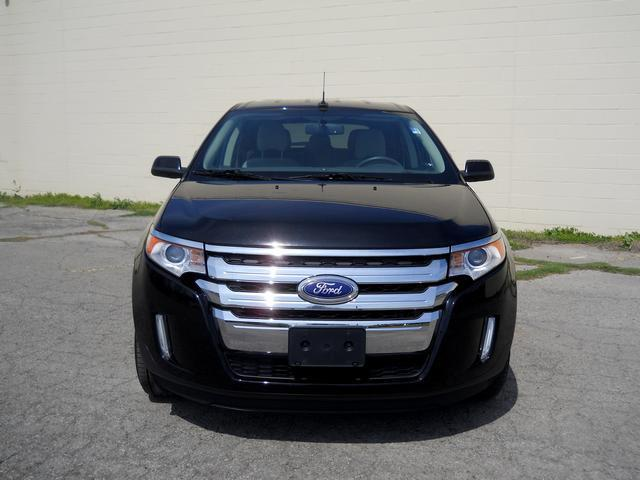Car: (118, 79, 531, 439)
